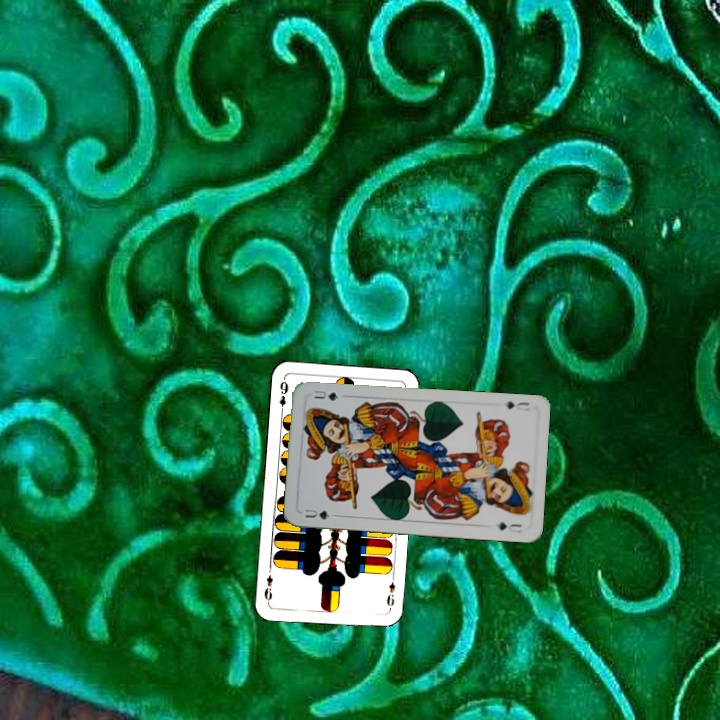E9: (382, 572, 398, 613), (275, 375, 290, 416)
GU: (300, 505, 332, 522), (502, 397, 532, 414)
